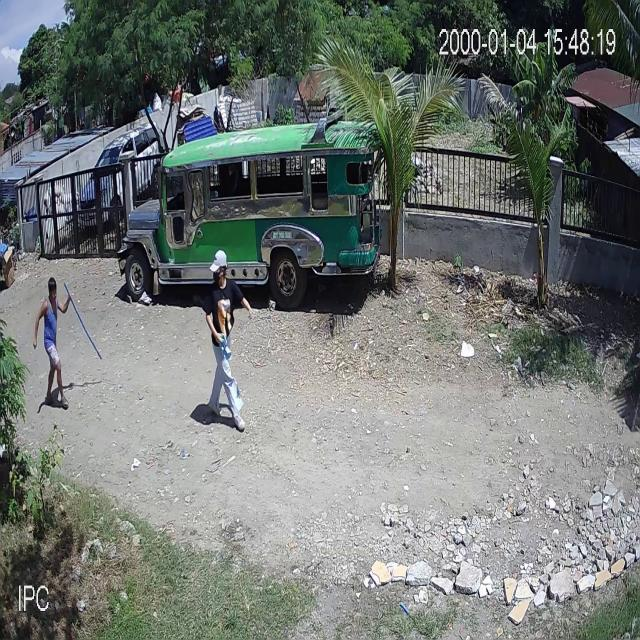running: (34, 276, 102, 409)
walking: (201, 250, 253, 431)
